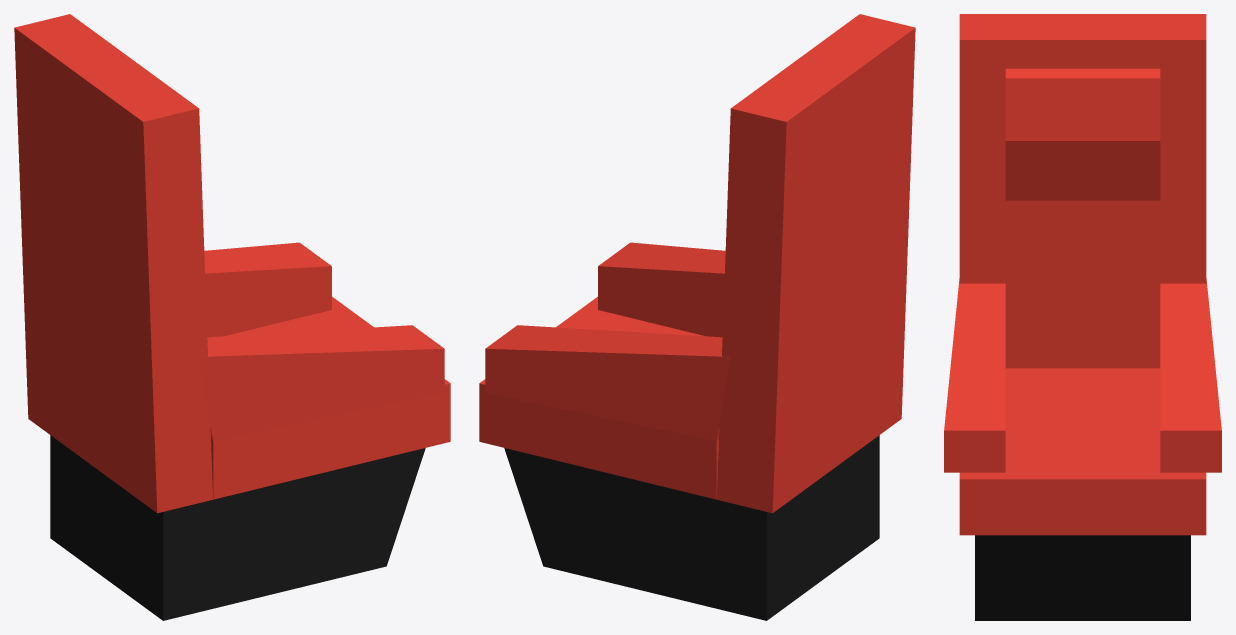
Rendered from pp-theatre-seat.glb.
The picture shows the model from 3 angles, left to right: view 1: azimuth 30°, elevation 25°; view 2: azimuth 150°, elevation 25°; view 3: azimuth 270°, elevation 25°; orthographic projection. The views are drawn at different scales.
Parts seen in each view (by area): view 1: group2105590044, group267084990, group975455076, group1602274213, group549880947; view 2: group2105590044, group267084990, group549880947, group1602274213, group975455076; view 3: group2105590044, group1602274213, group74679583, group267084990, group549880947, group975455076.
Part boxes in pixels (x1,y1,x2,y2): group2105590044: (14,14,213,513); group267084990: (50,435,425,620); group975455076: (199,325,444,441); group1602274213: (211,296,450,499); group549880947: (204,242,331,337); group2105590044: (716,14,915,513); group267084990: (504,435,879,620); group549880947: (485,325,730,441); group1602274213: (479,296,718,499); group975455076: (598,242,725,337); group2105590044: (959,14,1206,368); group1602274213: (959,368,1206,535); group74679583: (1005,68,1160,200); group267084990: (975,535,1190,620); group549880947: (1160,278,1221,472); group975455076: (944,278,1005,472).
Bounding box in the file's own units: 0.22 × 0.35 × 0.18.
